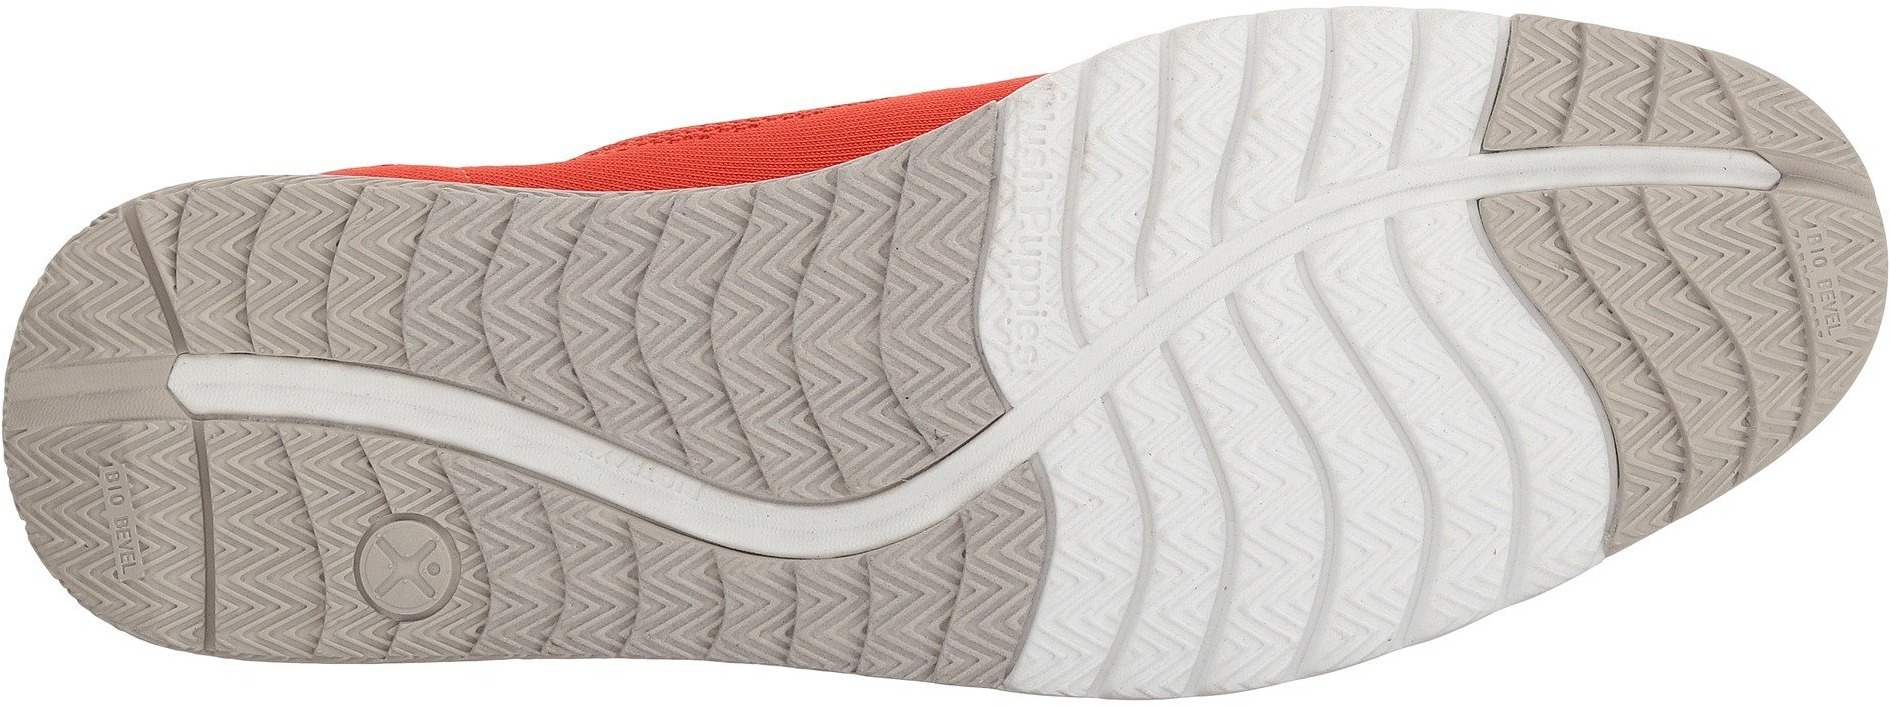chevron: (1182, 328, 1461, 604), (1462, 206, 1742, 465), (624, 206, 884, 453), (260, 464, 507, 700), (341, 186, 547, 370), (985, 289, 1170, 473), (1108, 53, 1285, 229), (168, 186, 339, 351), (902, 543, 1075, 705), (1305, 13, 1446, 163), (72, 446, 190, 622), (1498, 16, 1655, 140), (1775, 208, 1884, 365), (900, 152, 993, 255)
circle: (260, 464, 507, 700)
line: (985, 289, 1170, 473), (902, 543, 1075, 705), (1498, 16, 1655, 140)
quad: (72, 446, 190, 622), (1775, 208, 1884, 365)
text: (985, 289, 1170, 473), (72, 446, 190, 622), (1775, 208, 1884, 365), (1005, 101, 1066, 288)
